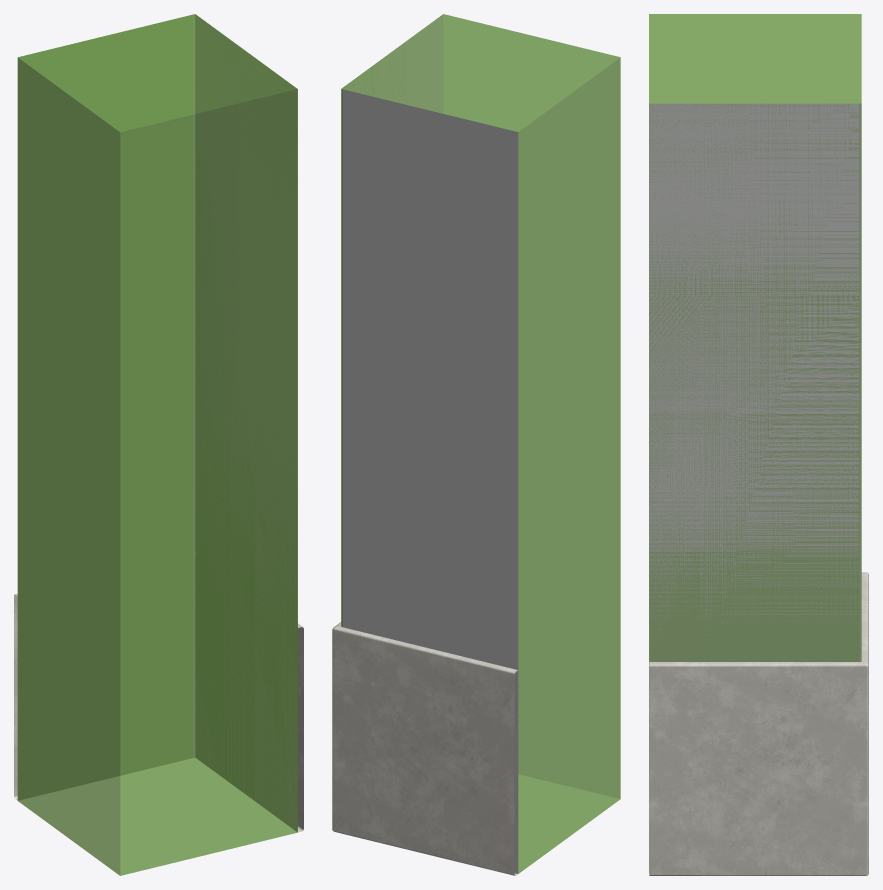
File: F9_md_Wall_4x1_90cnr_01.fbx
3 renders of one model, left to right at view 1: azimuth 30°, elevation 25°; view 2: azimuth 150°, elevation 25°; view 3: azimuth 270°, elevation 25°, orthographic. The views are drawn at different scales.
Visible parts, largest first — view 1: F9_md_Wall_4x1_90cnr_01_col_1, F9_md_Wall_4x1_90cnr_01_LOD0; view 2: F9_md_Wall_4x1_90cnr_01_LOD0, F9_md_Wall_4x1_90cnr_01_col_1; view 3: F9_md_Wall_4x1_90cnr_01_LOD0, F9_md_Wall_4x1_90cnr_01_col_1.
Boxes of the visible parts, x1,y1,x2,y2 form: F9_md_Wall_4x1_90cnr_01_col_1: (17,14,297,875); F9_md_Wall_4x1_90cnr_01_LOD0: (14,14,303,832); F9_md_Wall_4x1_90cnr_01_LOD0: (332,14,518,875); F9_md_Wall_4x1_90cnr_01_col_1: (341,14,620,873); F9_md_Wall_4x1_90cnr_01_LOD0: (649,103,868,875); F9_md_Wall_4x1_90cnr_01_col_1: (649,14,861,873).
Size of what is drawn, in the model's own units: 103 by 400 by 103.
